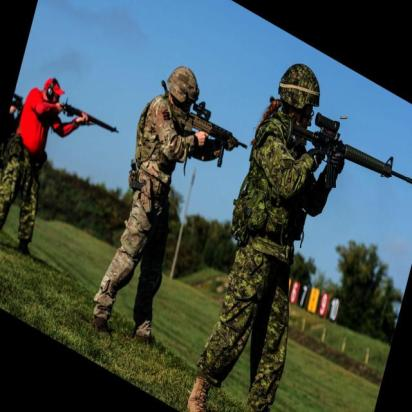Gun: (281, 95, 412, 230), (173, 96, 251, 174)
